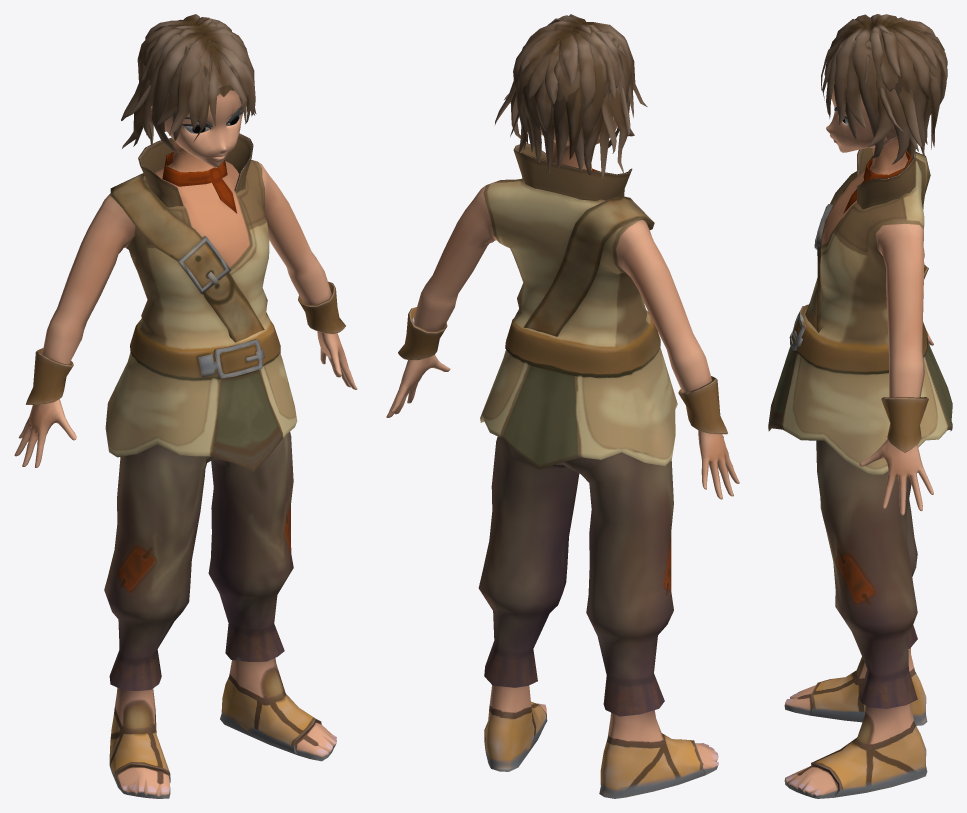
File: Character0.2.fbx
3 renders of one model, left to right at view 1: azimuth 30°, elevation 25°; view 2: azimuth 150°, elevation 25°; view 3: azimuth 270°, elevation 25°, orthographic. The views are drawn at different scales.
Visible parts, largest first — view 1: Body, Hair; view 2: Body, Hair; view 3: Body, Hair.
Part boxes in pixels (left/top/right/bottom): Body: left=14, top=90, right=357, bottom=798; Hair: left=121, top=14, right=256, bottom=154; Body: left=386, top=103, right=739, bottom=798; Hair: left=494, top=14, right=647, bottom=179; Body: left=768, top=87, right=952, bottom=798; Hair: left=821, top=14, right=947, bottom=164.
Size of the model in its own units: 93.8 by 196 by 45.27.
1 material, 1 textured.
